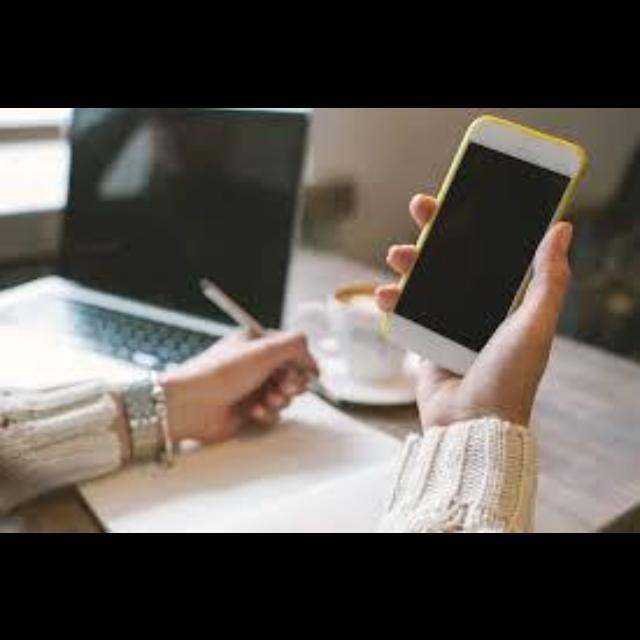PhoneUse: (380, 113, 588, 375)
